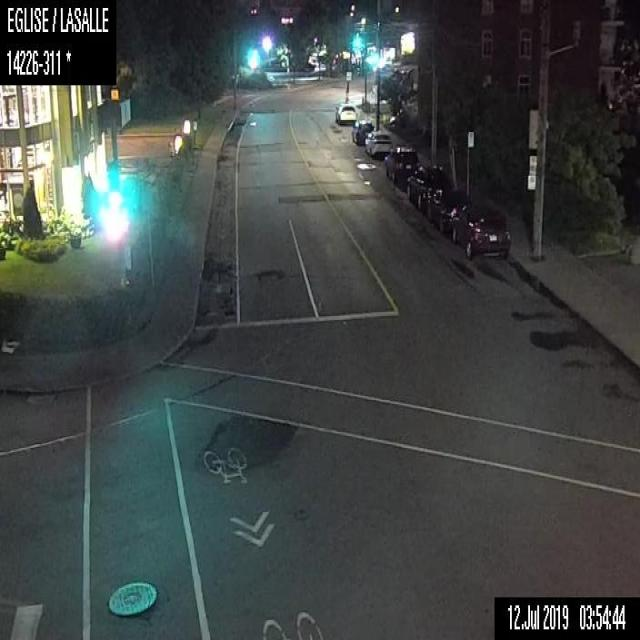vehicle: (448, 198, 512, 257), (405, 163, 446, 207), (426, 185, 455, 230), (386, 145, 417, 186), (365, 130, 391, 156), (350, 117, 372, 145), (333, 101, 357, 125)
